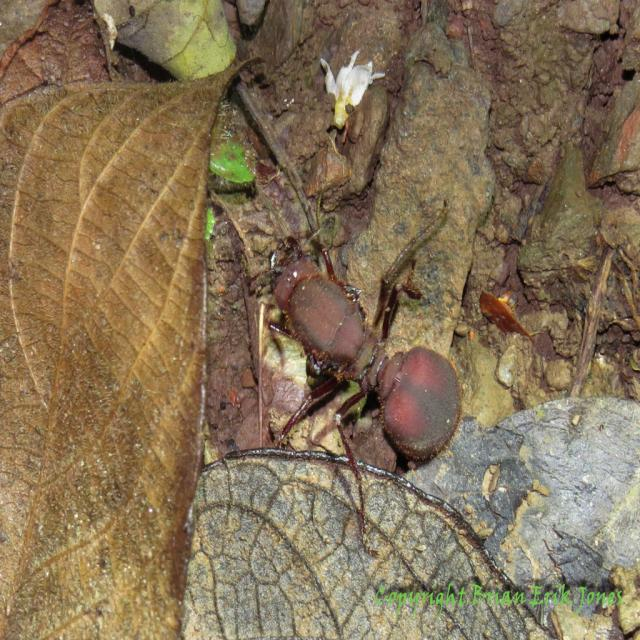Alive-Female-Dealate: (215, 177, 462, 558)
